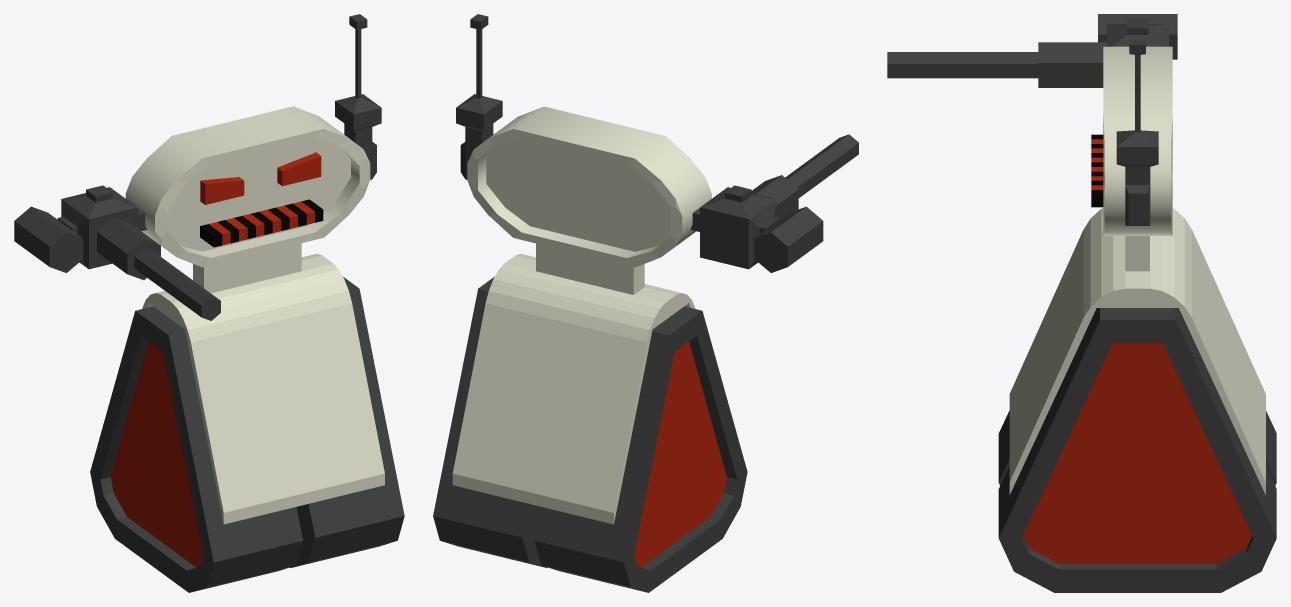
File: Droid 1.fbx
3 renders of one model, left to right at view 1: azimuth 30°, elevation 25°; view 2: azimuth 150°, elevation 25°; view 3: azimuth 270°, elevation 25°, orthographic. The views are drawn at different scales.
Parts seen in each view (by area): view 1: Droid Mesh; view 2: Droid Mesh; view 3: Droid Mesh.
Boxes of the visible parts, box(x1,y1,x2,y2) form: Droid Mesh: box(14, 14, 404, 592); Droid Mesh: box(433, 14, 858, 592); Droid Mesh: box(887, 14, 1276, 592).
Bounding box in the file's own units: 1753 × 2445 × 1543.
